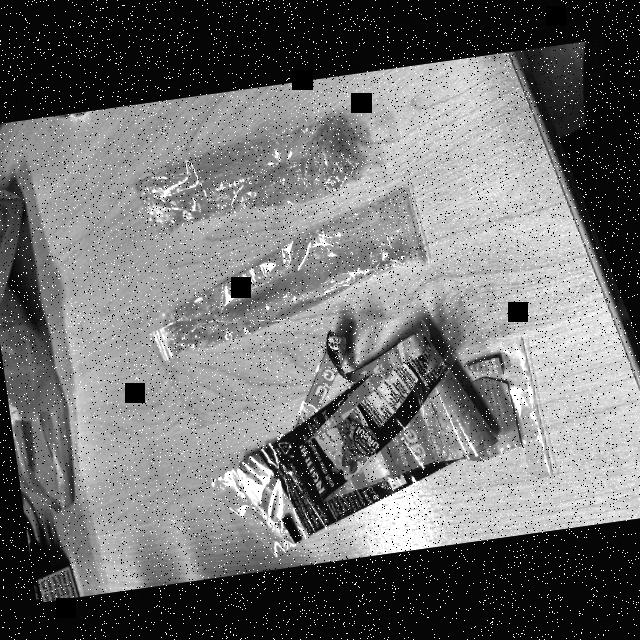scrap_plastic: (190, 302, 574, 562), (136, 188, 454, 376), (131, 107, 376, 237)
